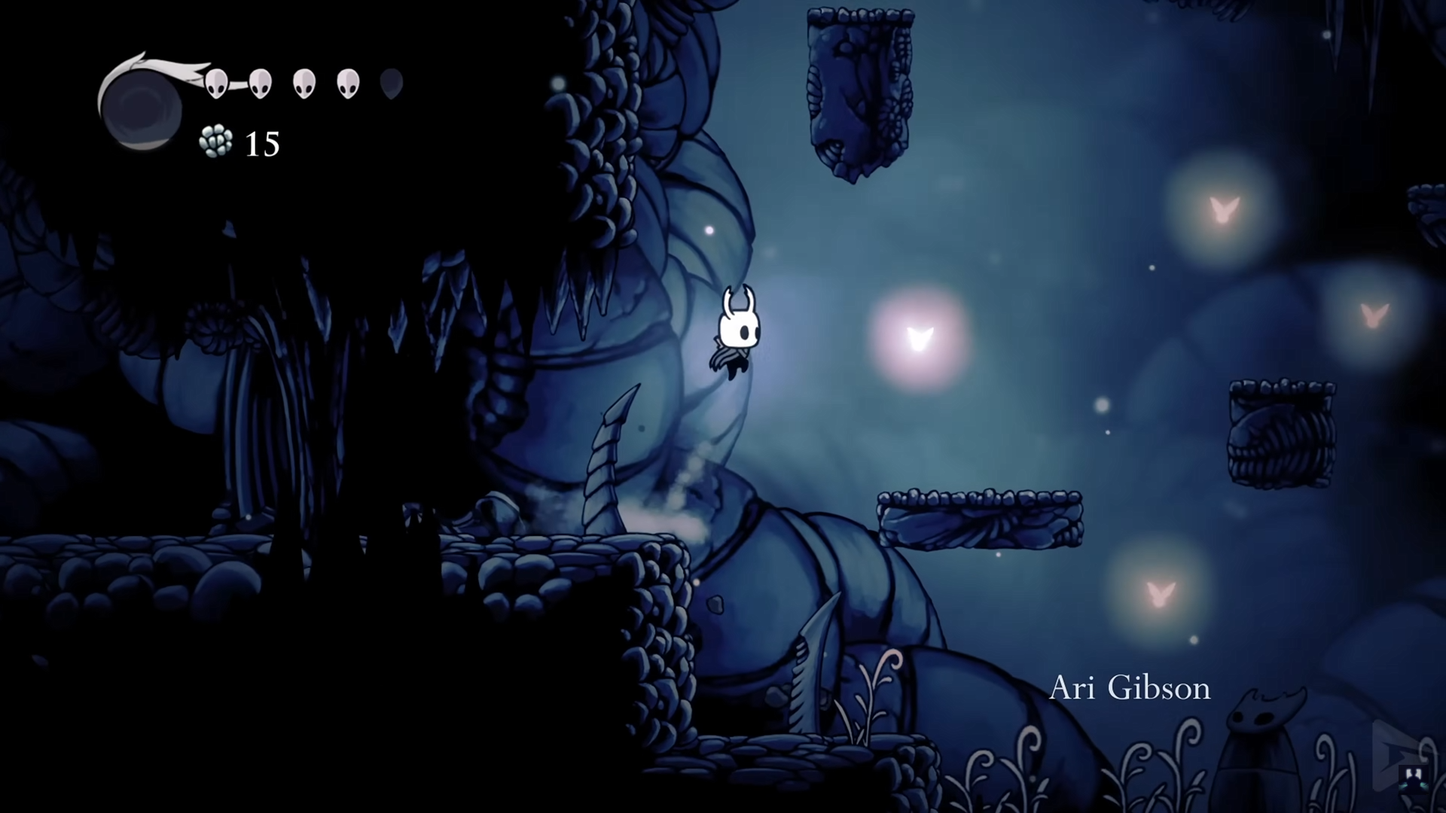HK: (706, 280, 768, 385)
